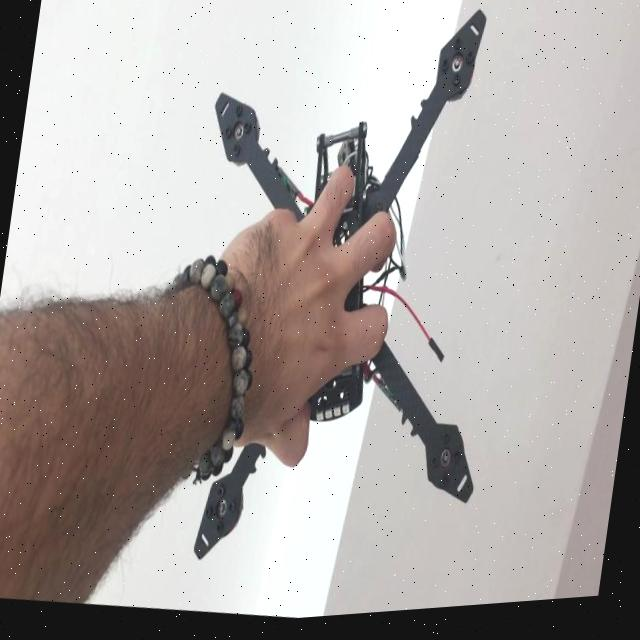drone: (145, 0, 542, 592)
